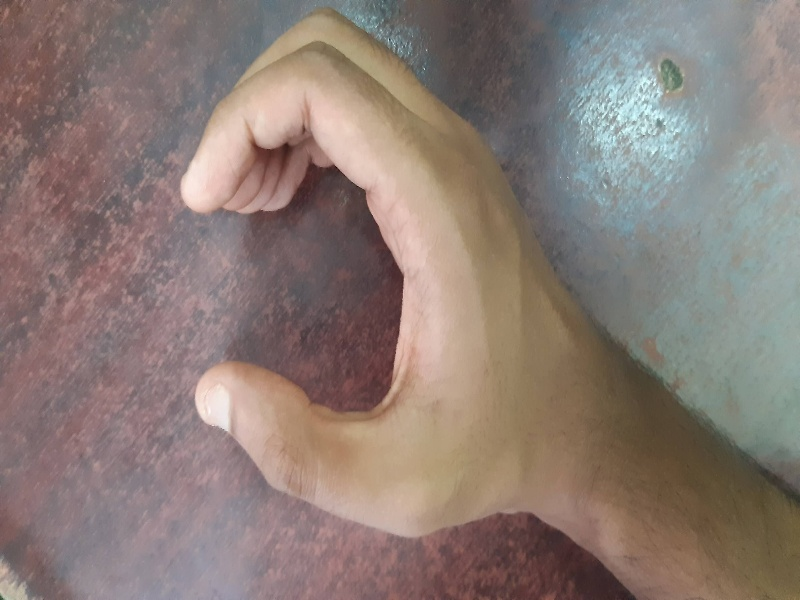one: (155, 1, 611, 571)
